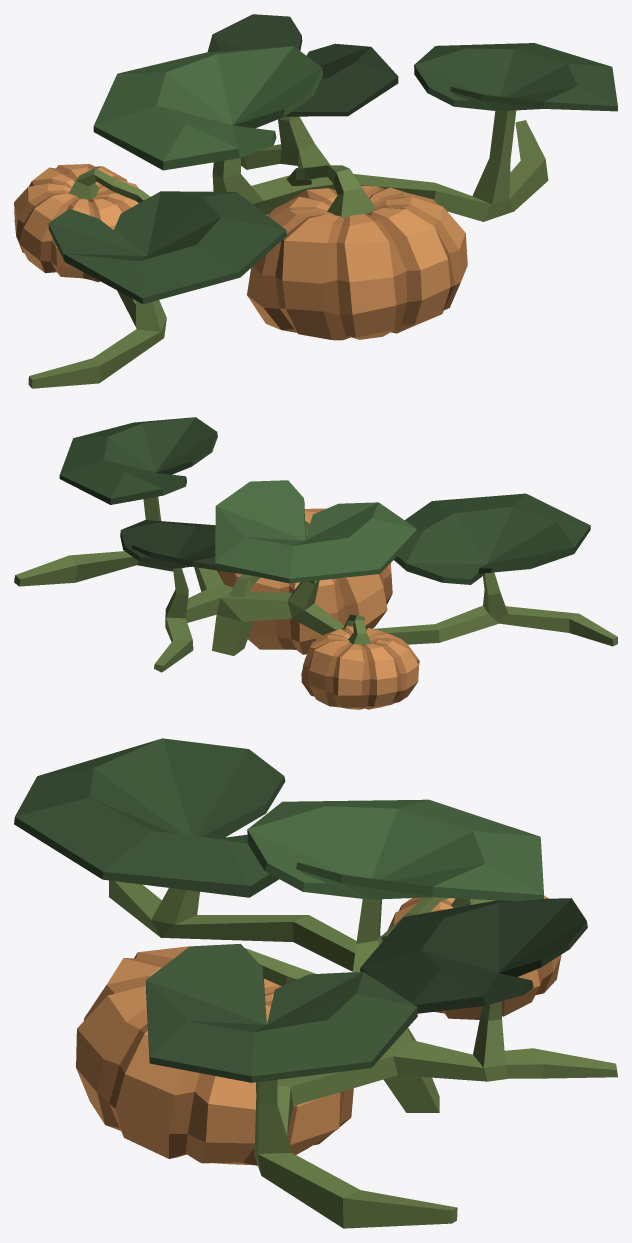
The model's file is SM_Env_Plant_Pumpkin_01.fbx.
3 renders of one model, top to bottom at view 1: azimuth 30°, elevation 25°; view 2: azimuth 150°, elevation 25°; view 3: azimuth 270°, elevation 25°, orthographic. The views are drawn at different scales.
Visible parts, largest first — view 1: SM_Env_Plant_Pumpkin_01; view 2: SM_Env_Plant_Pumpkin_01; view 3: SM_Env_Plant_Pumpkin_01.
Boxes of the visible parts, <box> form: SM_Env_Plant_Pumpkin_01: <box>14,14,617,388</box>; SM_Env_Plant_Pumpkin_01: <box>14,417,617,709</box>; SM_Env_Plant_Pumpkin_01: <box>14,738,617,1228</box>.
Size of the model in its own units: 168 by 56.17 by 111.
